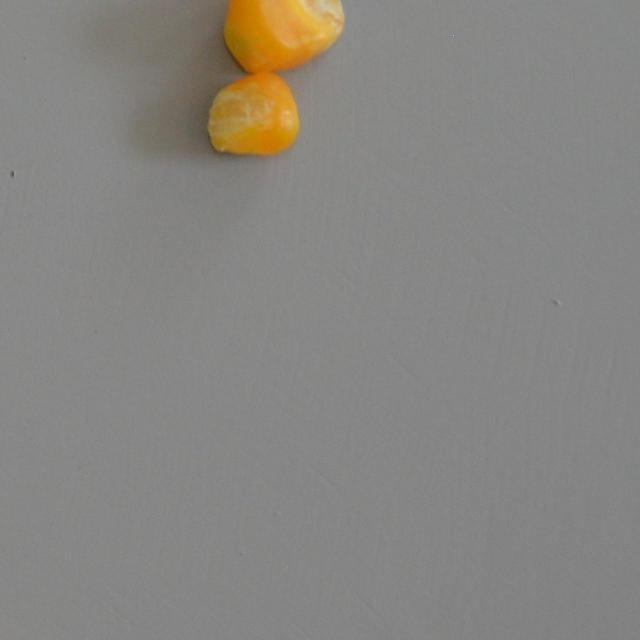entero: (218, 0, 346, 72)
no_desgerminado: (204, 74, 298, 156)
